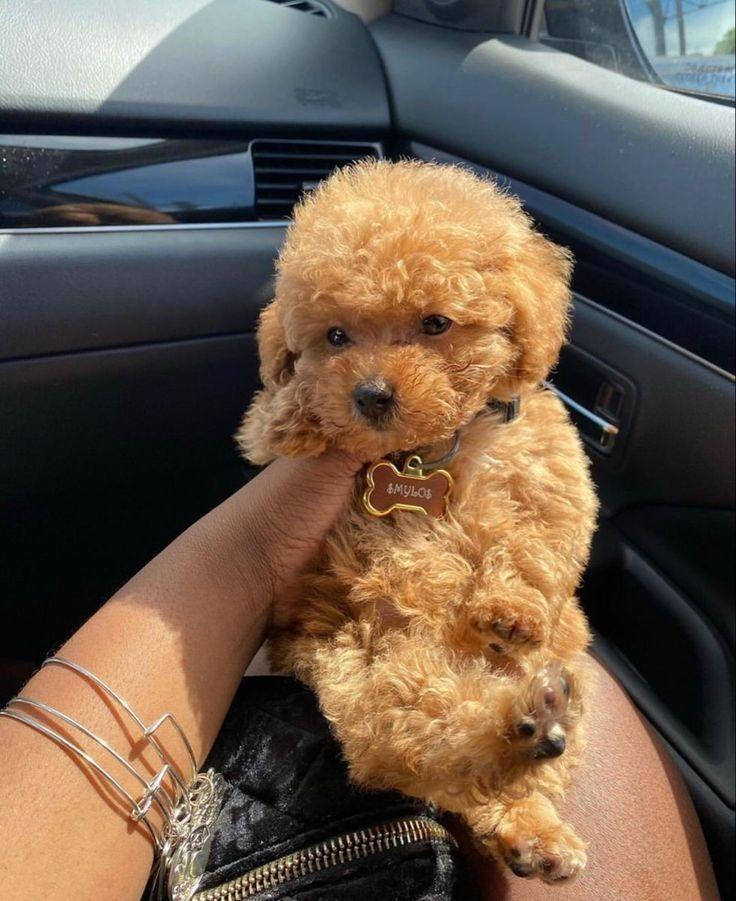puppy-dog: (237, 160, 601, 887)
